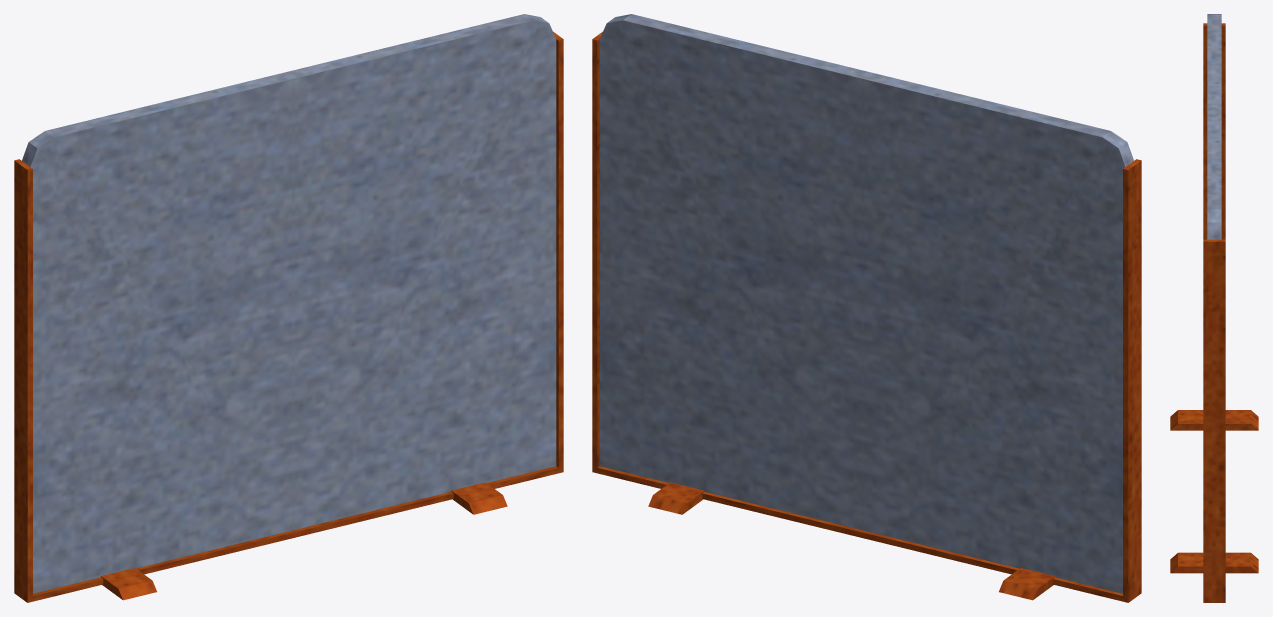
The model's file is divider_veneer_blue.obj.
3 views of the same model, side by side, from view 1: azimuth 30°, elevation 25°; view 2: azimuth 150°, elevation 25°; view 3: azimuth 270°, elevation 25° (orthographic). The views are drawn at different scales.
Visible parts, largest first — view 1: divider_veneer_blue; view 2: divider_veneer_blue; view 3: divider_veneer_blue.
Boxes of the visible parts, x1,y1,x2,y2 form: divider_veneer_blue: [14, 14, 563, 602]; divider_veneer_blue: [592, 14, 1141, 602]; divider_veneer_blue: [1170, 14, 1258, 602].
Size of the model in its own units: 3.06 by 2.5 by 0.523.
